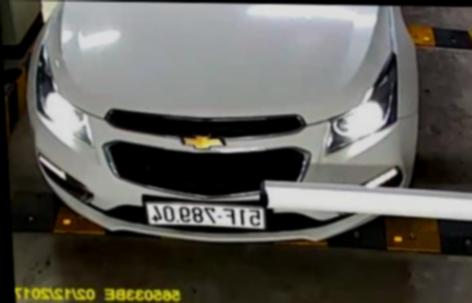License_Plate: (142, 200, 268, 235)
